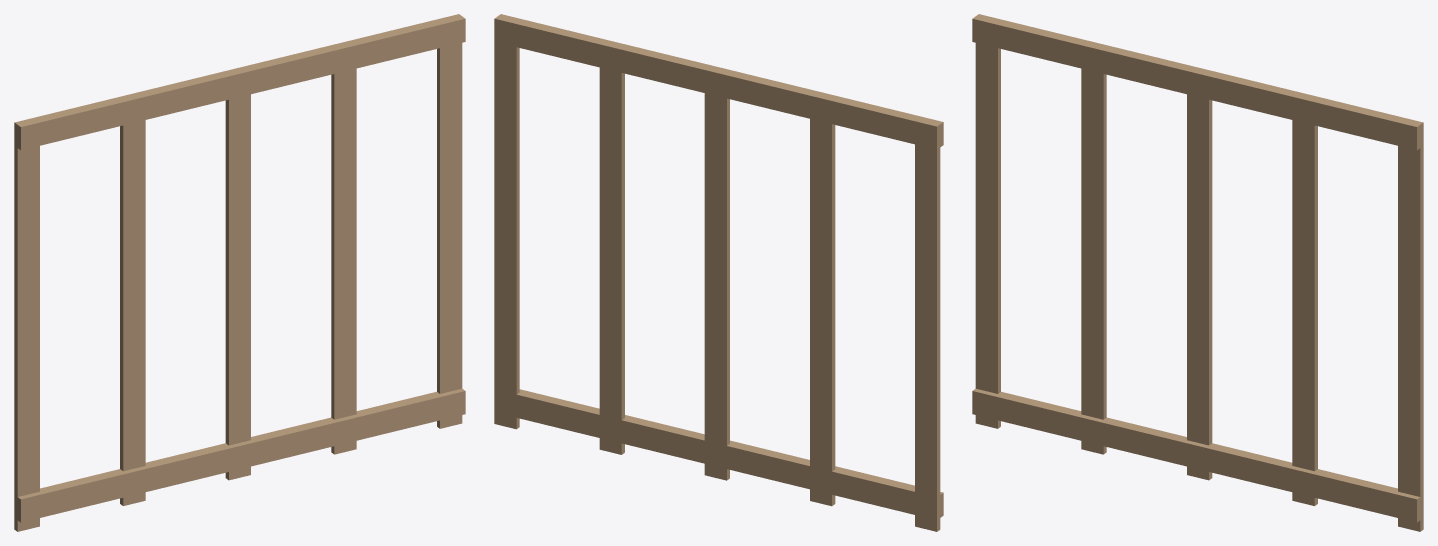
Rendered from mod_fence_panel_wood.glb.
The picture shows the model from 3 angles, left to right: view 1: azimuth 30°, elevation 25°; view 2: azimuth 150°, elevation 25°; view 3: azimuth 330°, elevation 25°; orthographic projection.
Visible parts, largest first — view 1: rail_top, rail_bottom, plank_0, plank_3, plank_1, plank_4, plank_2; view 2: rail_top, rail_bottom, plank_0, plank_2, plank_3, plank_4, plank_1; view 3: rail_top, rail_bottom, plank_4, plank_1, plank_3, plank_0, plank_2.
Part boxes in pixels (x1,y1,x2,y2): rail_top: (14,14,465,150); rail_bottom: (14,388,465,522); plank_0: (14,123,39,531); plank_3: (331,68,356,454); plank_1: (120,120,145,505); plank_4: (437,43,462,428); plank_2: (225,94,250,480); rail_top: (494,14,943,149); rail_bottom: (494,389,943,519); plank_0: (915,121,940,531); plank_2: (704,70,729,480); plank_3: (599,44,624,454); plank_4: (494,18,519,429); plank_1: (810,96,835,506); rail_top: (972,14,1423,150); rail_bottom: (972,388,1423,522); plank_4: (1398,139,1423,531); plank_1: (1081,68,1106,454); plank_3: (1292,120,1317,505); plank_0: (975,43,1000,428); plank_2: (1187,94,1212,480).
Bounding box in the file's own units: 2 × 1.75 × 0.05.
